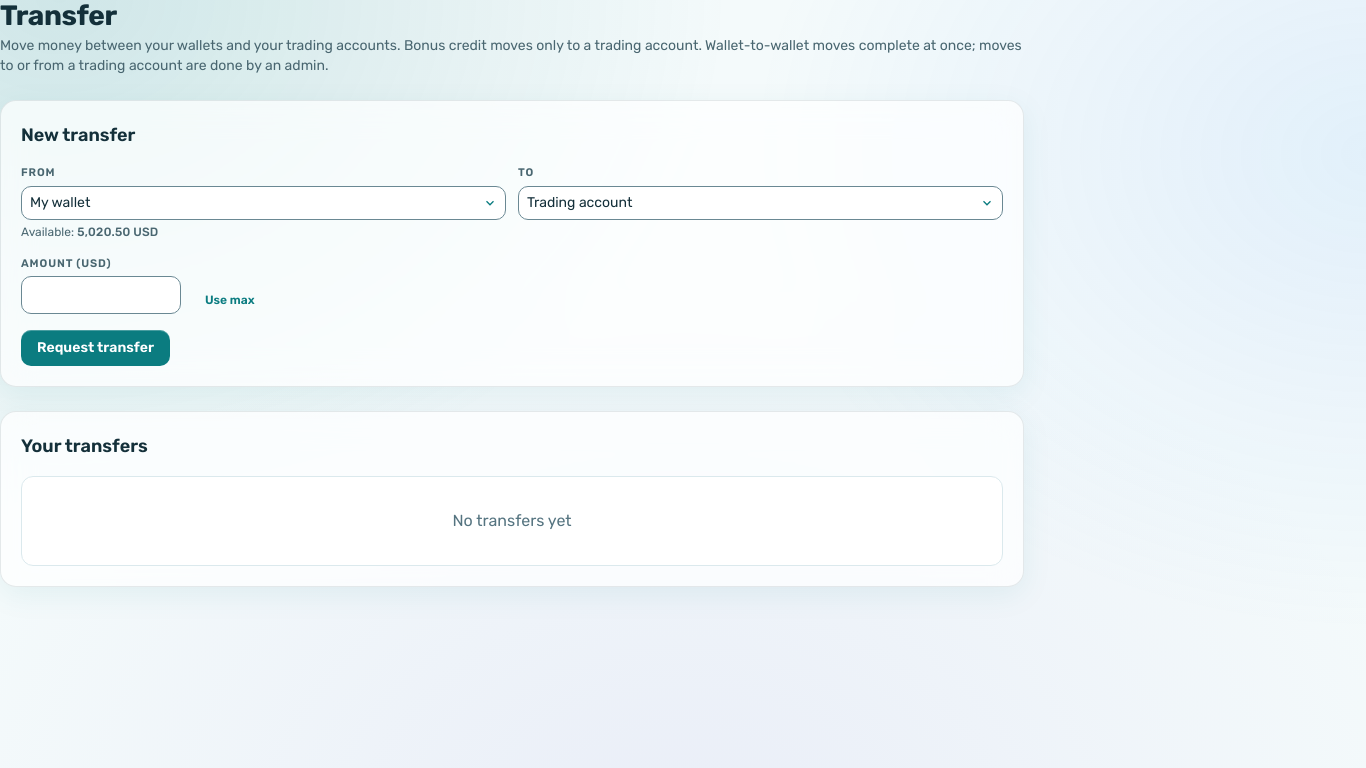
Test case: PAMM to My wallet completes at once and says so
Select "PAMM wallet" in the dropdown labelled "From": (264, 203) [21,186,506,220]
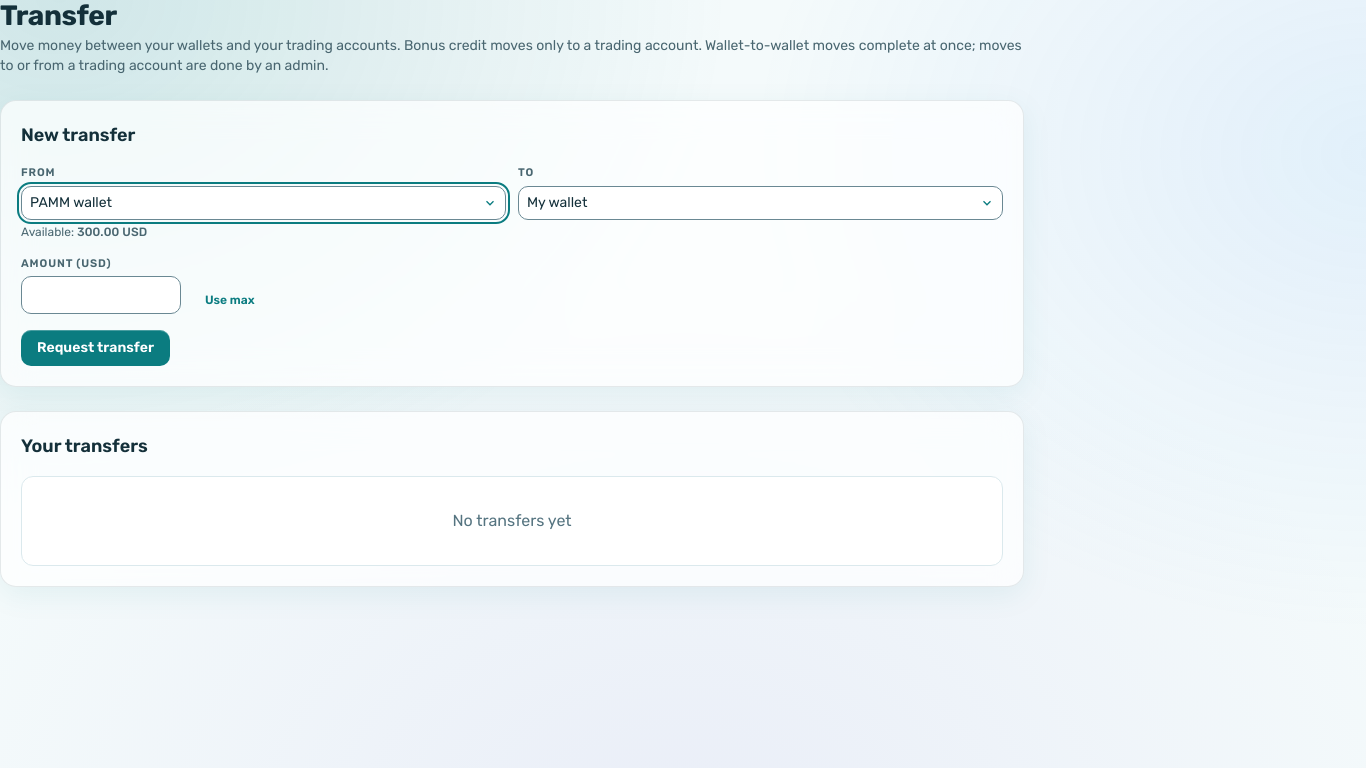
Expected: the text "300.00 USD" is shown, [77,225,147,239]
Click the button "Use max": click(230, 300) [193,286,266,314]
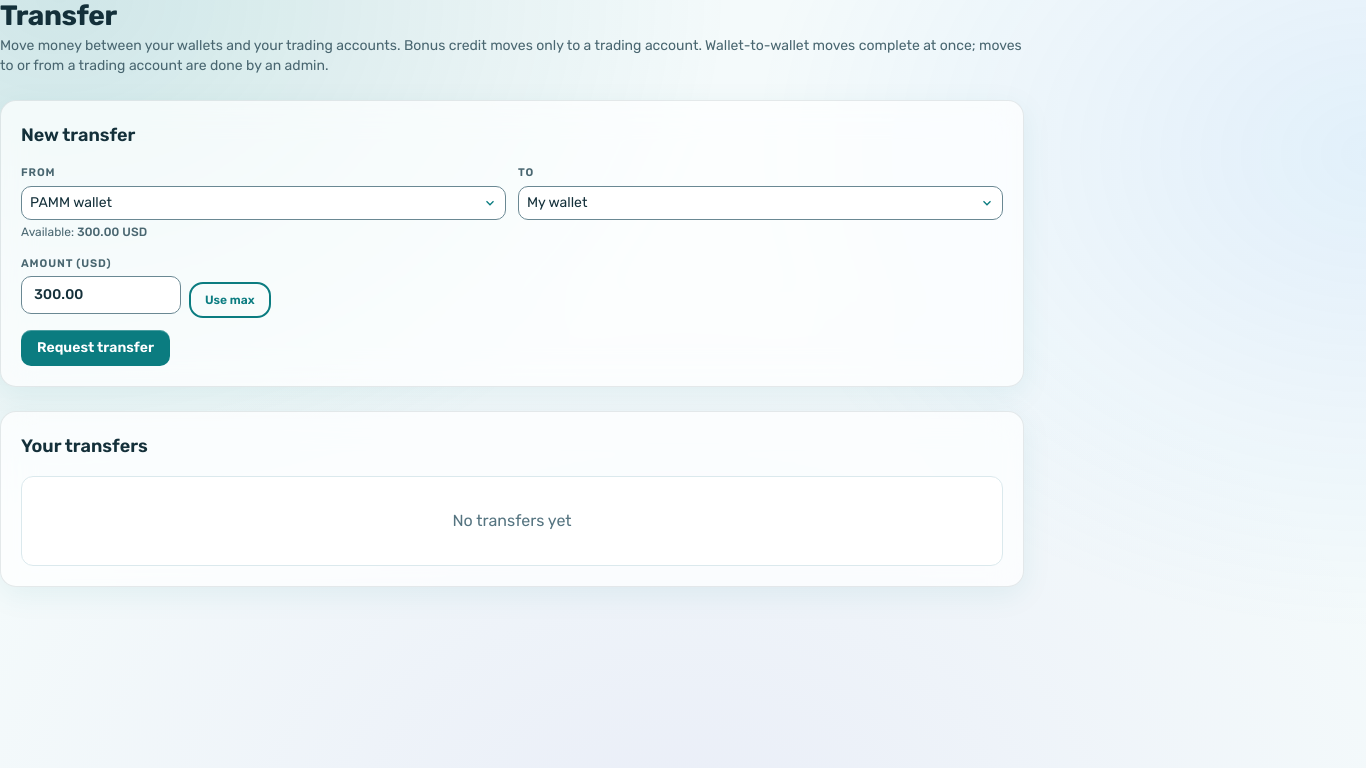
Expected: the field named "Amount in USD" holds "300.00", [21,276,181,314]
Click the button "Request transfer": click(96, 348) [21,330,170,366]
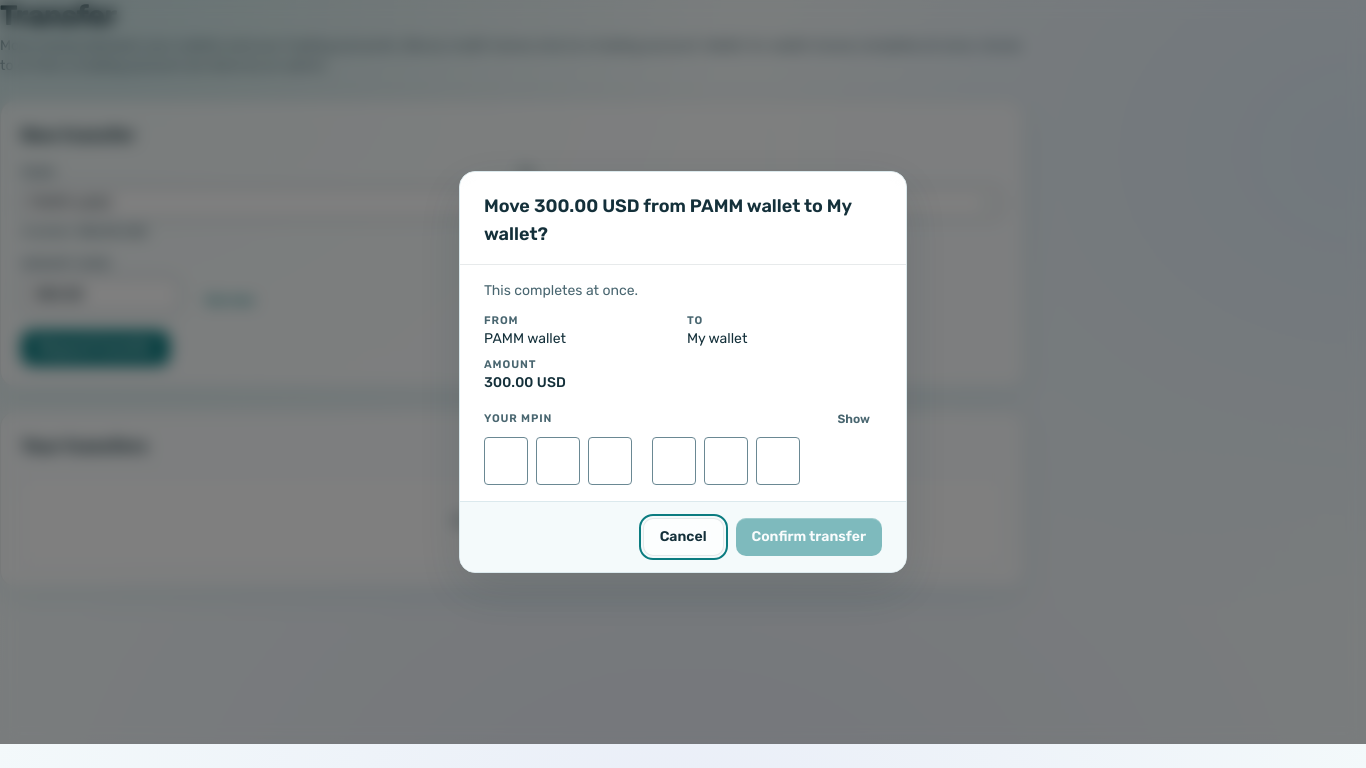
Click the password field named "Your MPIN digit 1 of 6": click(506, 461) [484,437,528,485]
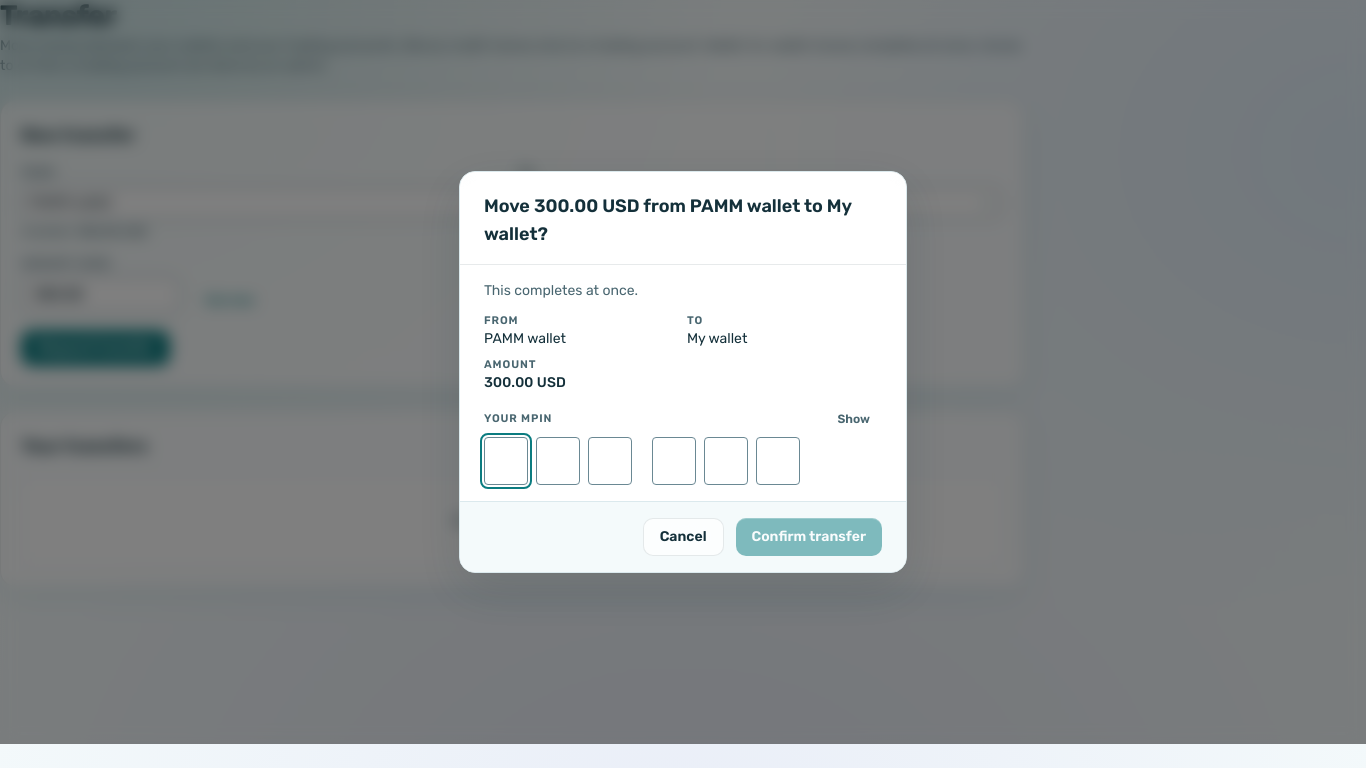
Type keys "123456"
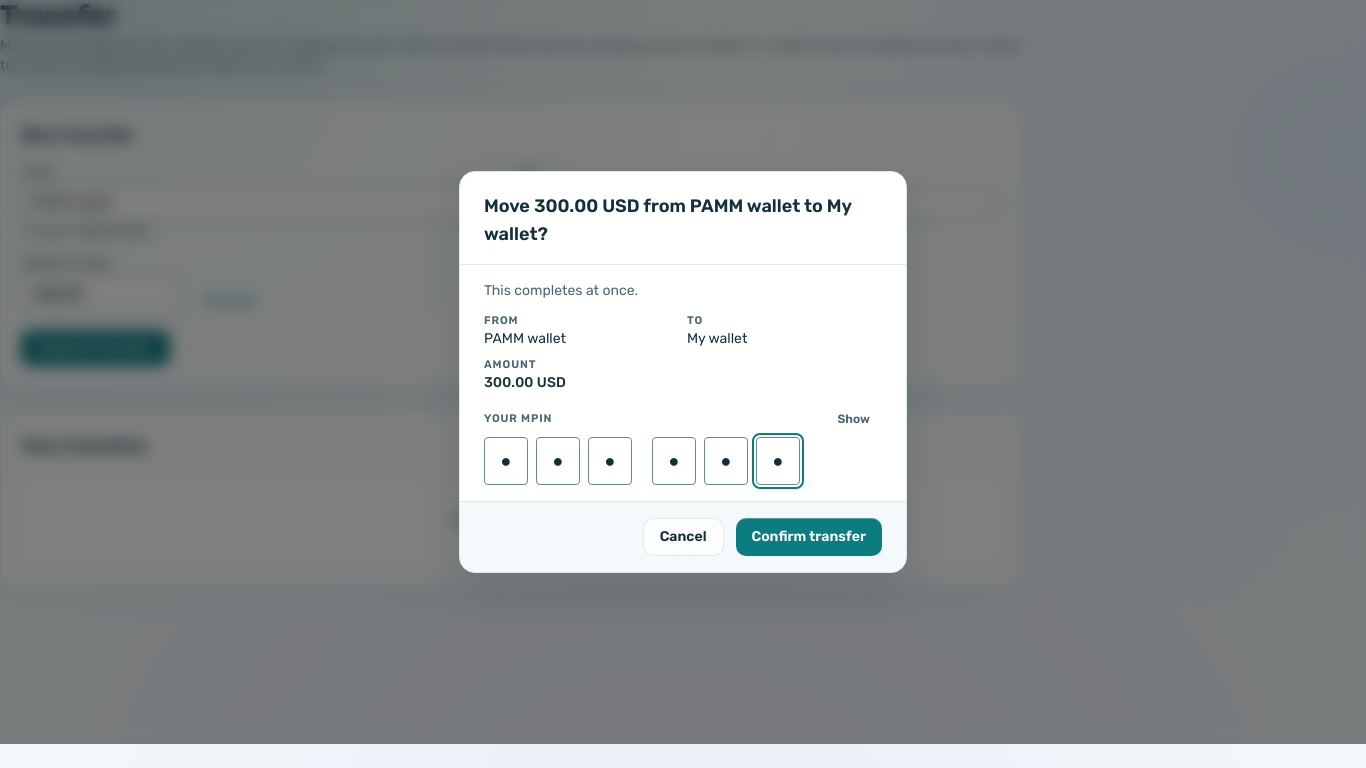
Click the button "Confirm transfer": click(809, 537) [736,518,882,556]
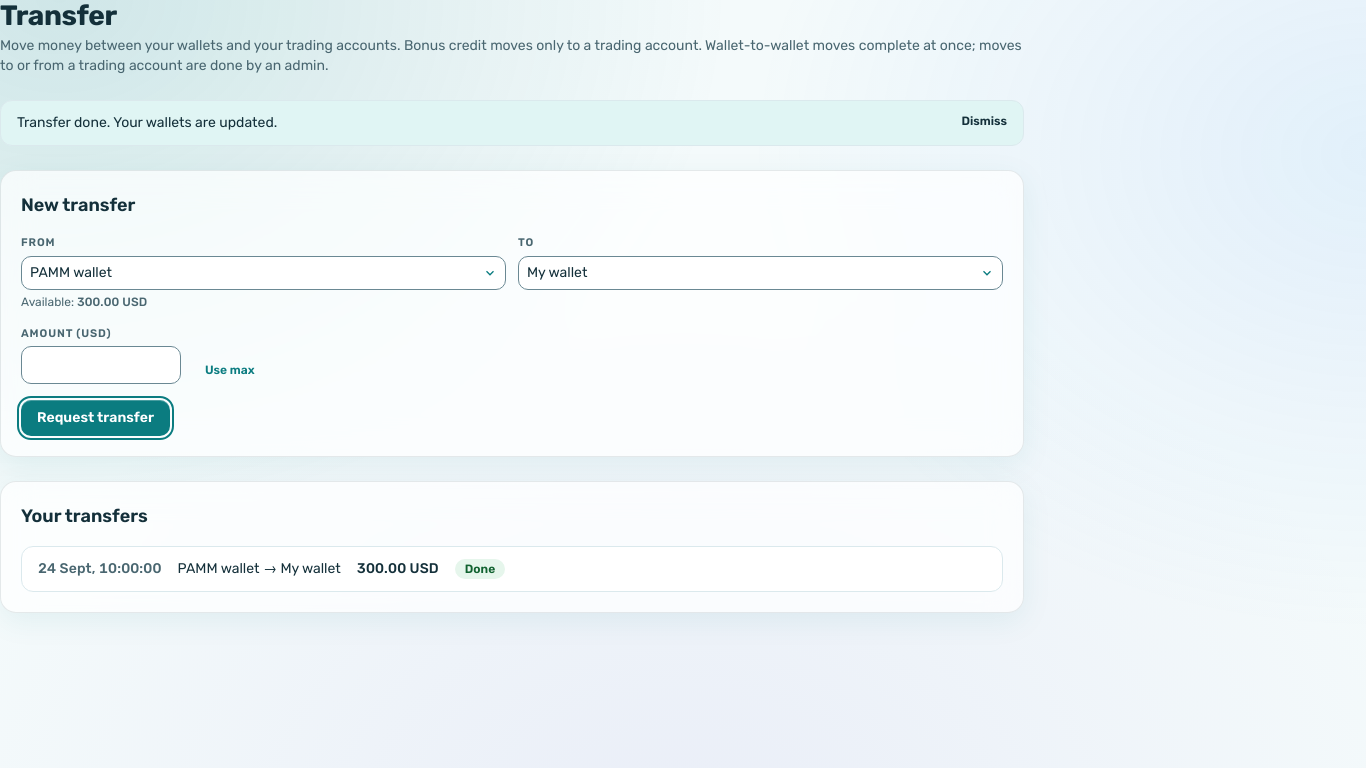
Expected: the text "Transfer done. Your wallets are updated." is shown, [17,113,277,133]
Expected: the text "Done" is shown, [455,559,505,579]
